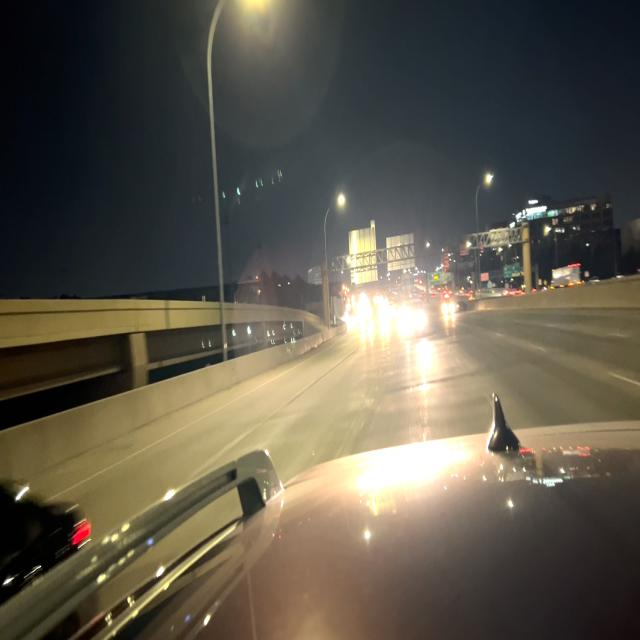back-of-sign: (347, 221, 378, 286), (385, 231, 415, 275)
